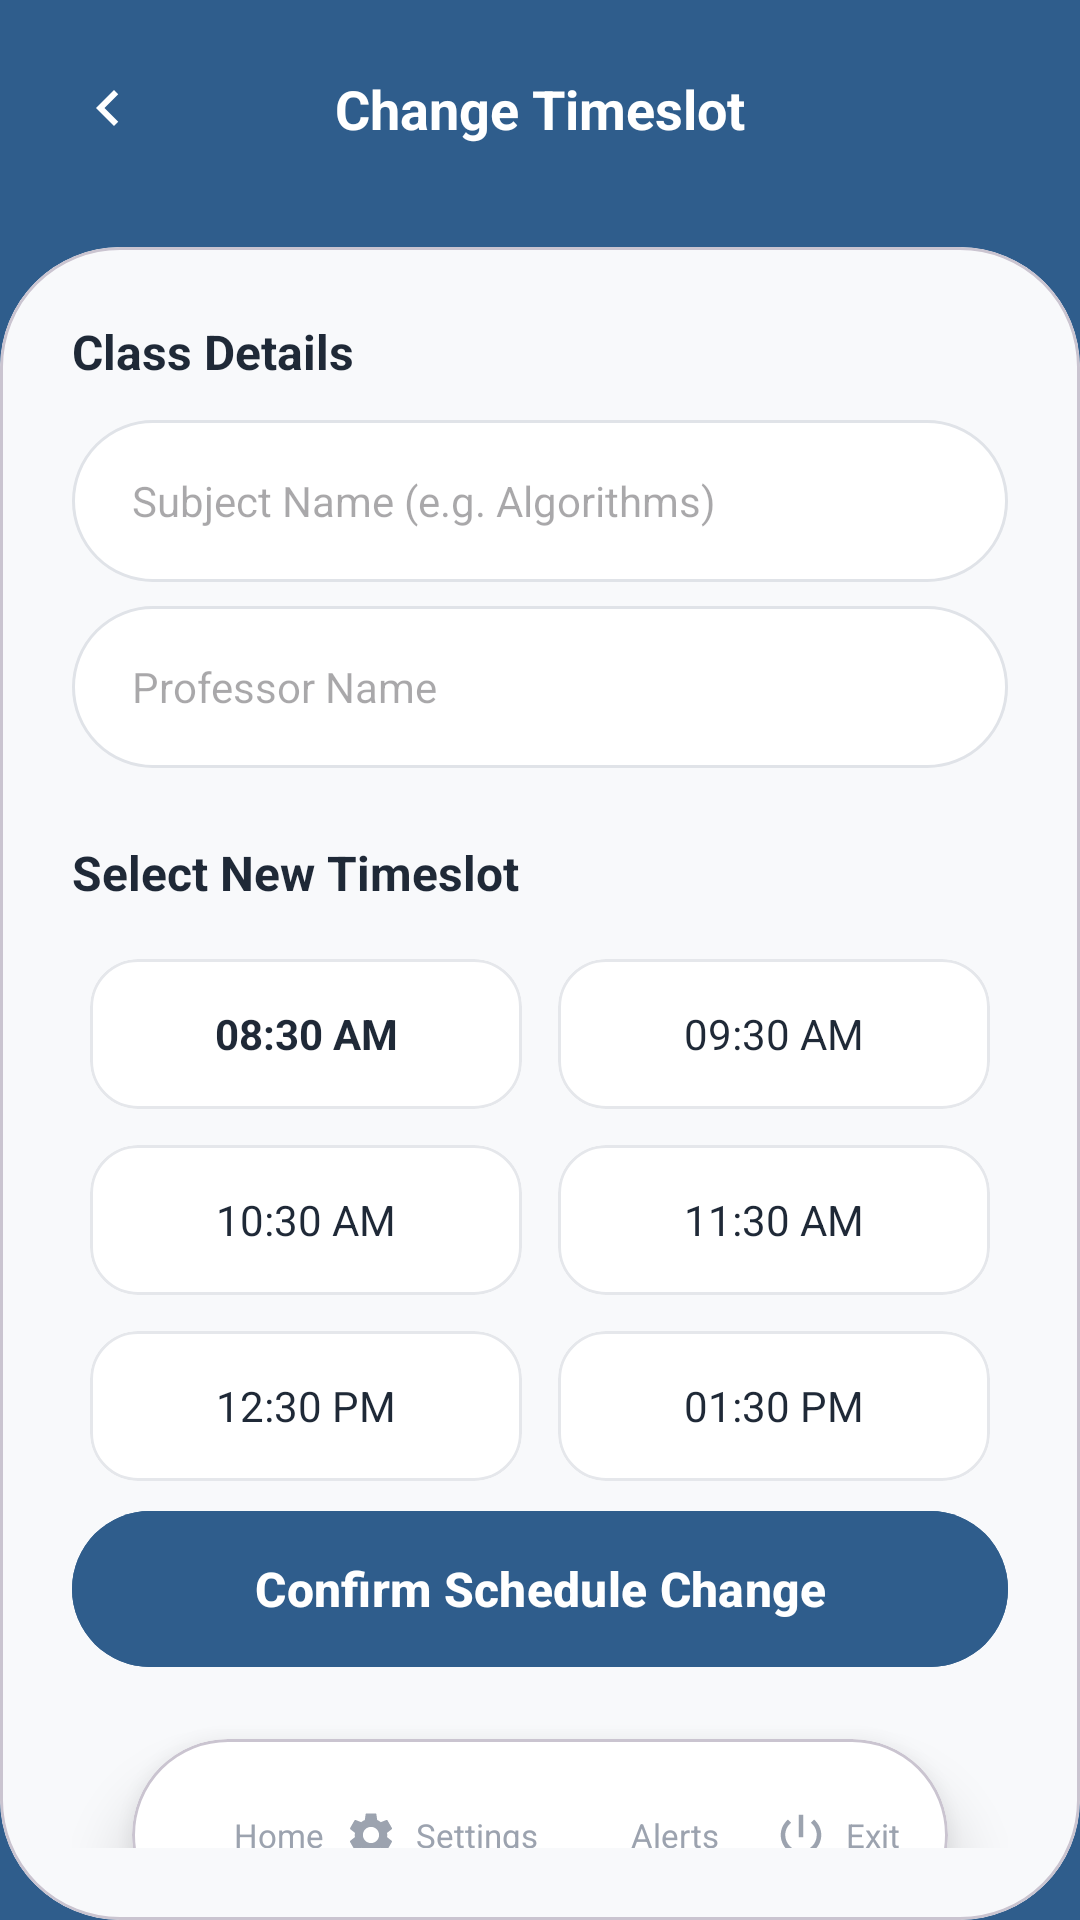

Screen size 1080*1920. Icon name, then its box in pixels as bbox(x1, y1, x2, y2):
back: bbox(96, 90, 118, 126)
